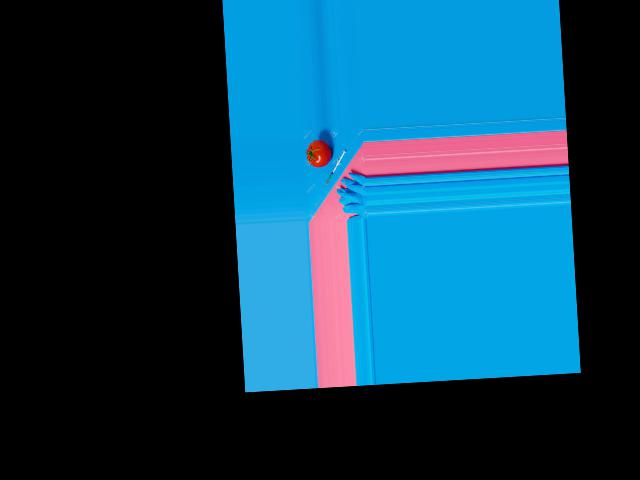tomato: (306, 140, 332, 168)
